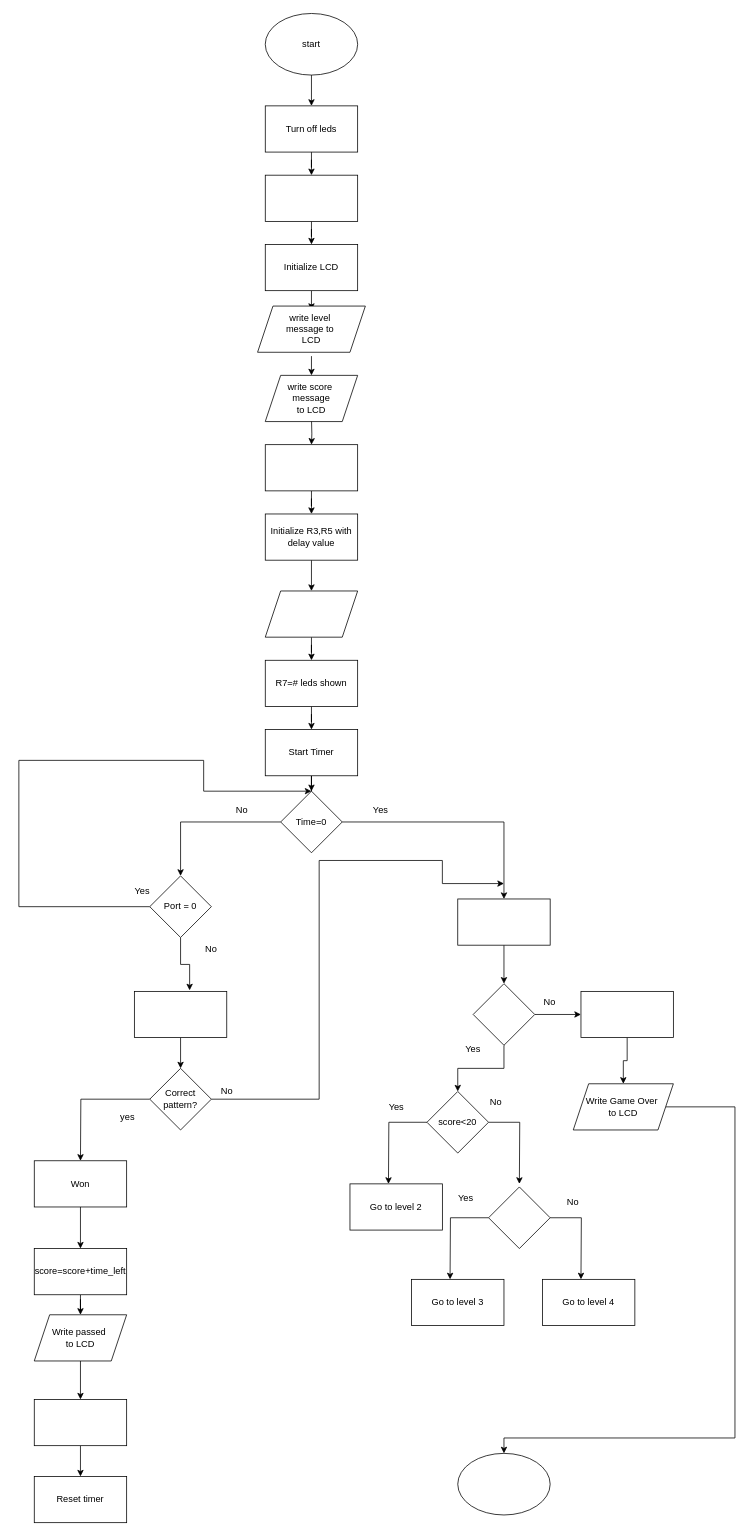
This 755x1536 diagram has some shape labels left out. The shapes that lost their labels are listed below. From the top down, each one's box as (x1, y1, x2, y2) in pixels, then its label:
(264, 174, 358, 221): Initialize score to zero
(264, 444, 358, 491): Initialize datapointer to level pattern array
(264, 590, 358, 637): View Pattern
(457, 898, 550, 945): Loss
(134, 991, 227, 1038): Compare port value to true value
(472, 983, 535, 1045): score<12
(580, 991, 673, 1038): Game over
(488, 1186, 550, 1249): score<35
(33, 1399, 127, 1446): Go to next level
(457, 1453, 550, 1515): End
